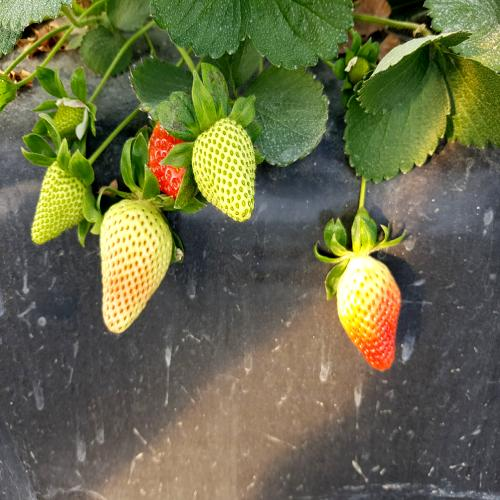partially-ripe: (94, 194, 174, 345), (334, 252, 401, 382)
unripe: (190, 110, 260, 230)
